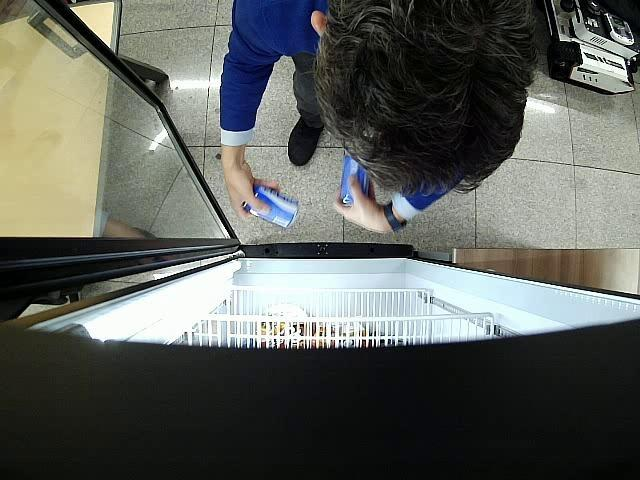13_pocariSweat: (242, 185, 298, 229), (340, 156, 370, 206)
